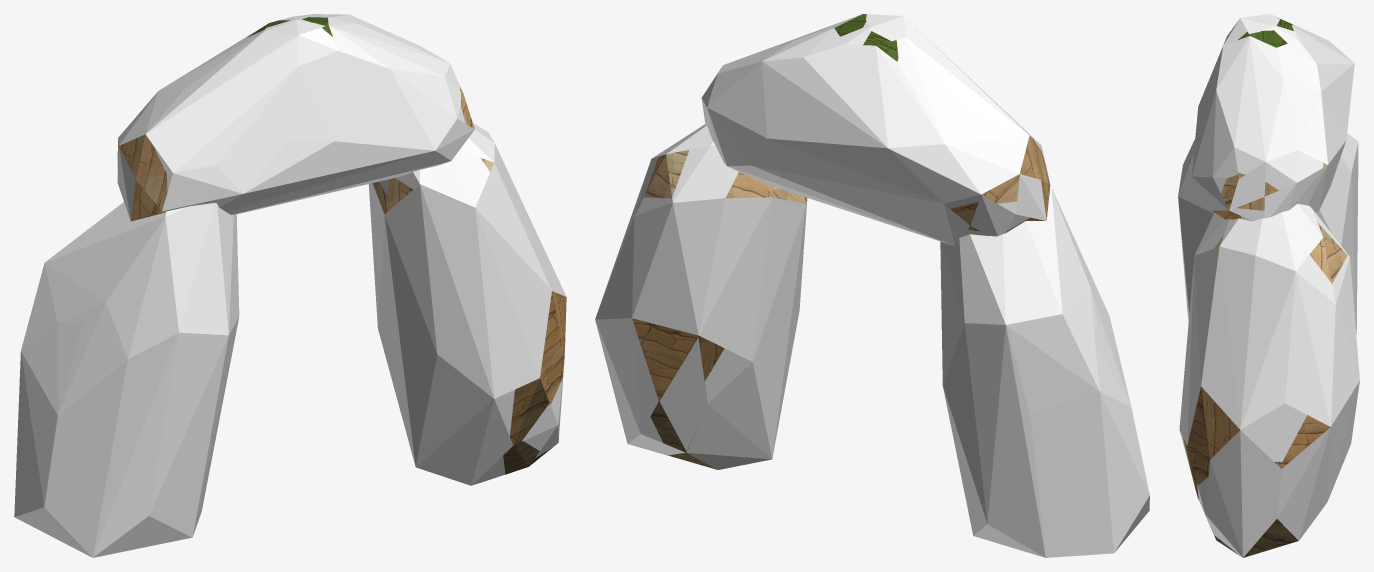
File: rock_arch.glb
3 views of the same model, side by side, from view 1: azimuth 30°, elevation 25°; view 2: azimuth 150°, elevation 25°; view 3: azimuth 270°, elevation 25° (orthographic). The views are drawn at different scales.
Visible parts, largest first — view 1: col_arch_left, col_arch_bridge, col_arch_right, RockArch; view 2: col_arch_left, col_arch_bridge, col_arch_right, RockArch; view 3: col_arch_right, col_arch_bridge, RockArch, col_arch_left.
Part boxes in pixels (<box>): col_arch_left: <box>14,202,239,557</box>; col_arch_bridge: <box>117,14,474,220</box>; col_arch_right: <box>368,123,566,485</box>; RockArch: <box>117,17,566,474</box>; col_arch_left: <box>940,187,1149,557</box>; col_arch_bridge: <box>701,14,1046,245</box>; col_arch_right: <box>595,124,807,469</box>; RockArch: <box>632,14,1050,469</box>; col_arch_right: <box>1179,203,1359,557</box>; col_arch_bridge: <box>1191,14,1354,221</box>; RockArch: <box>1183,18,1347,557</box>; col_arch_left: <box>1178,133,1358,333</box>.
Size of the model in its own units: 18 by 16.12 by 6.09.
2 materials, 1 textured.
